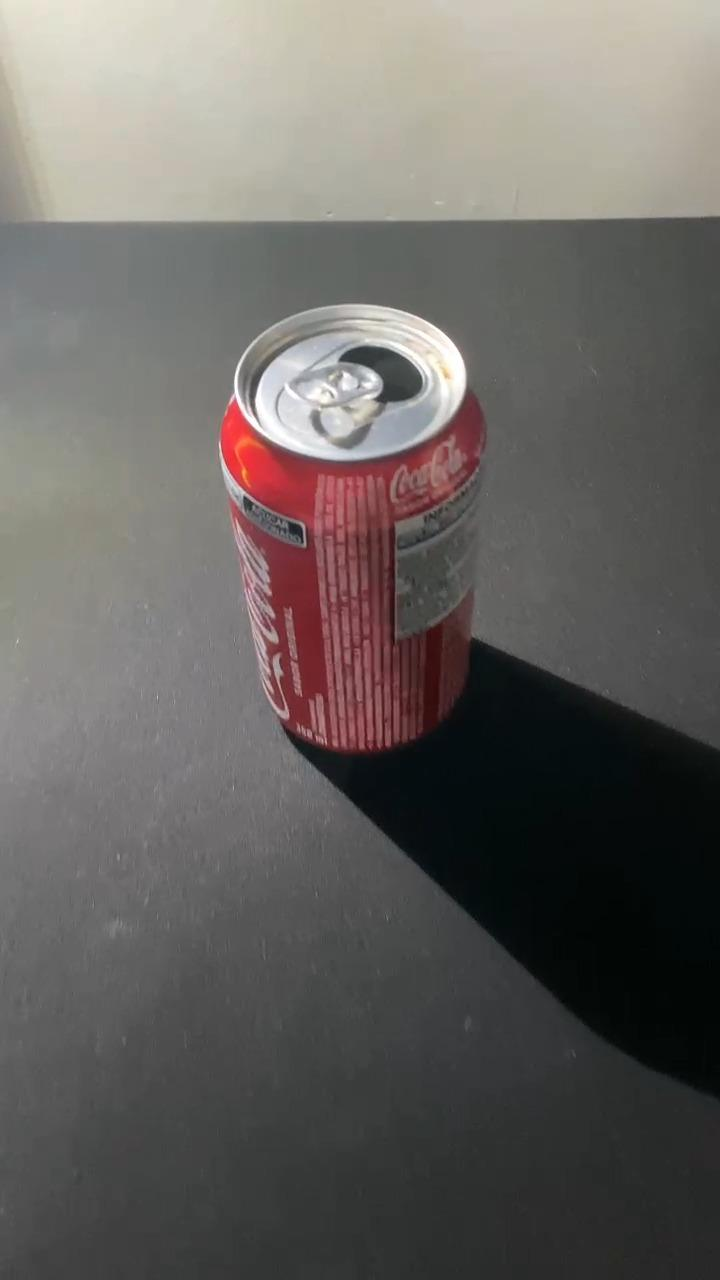coke: (222, 304, 485, 756)
